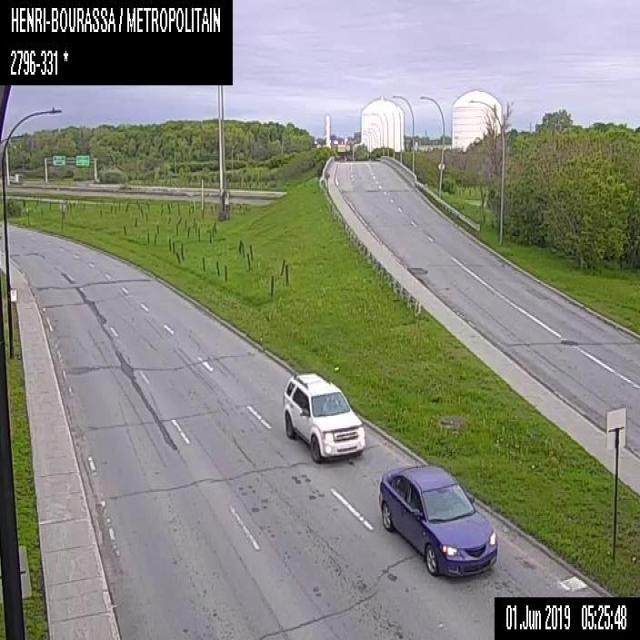vehicle: (377, 461, 498, 579), (282, 368, 365, 461), (11, 172, 22, 184)
